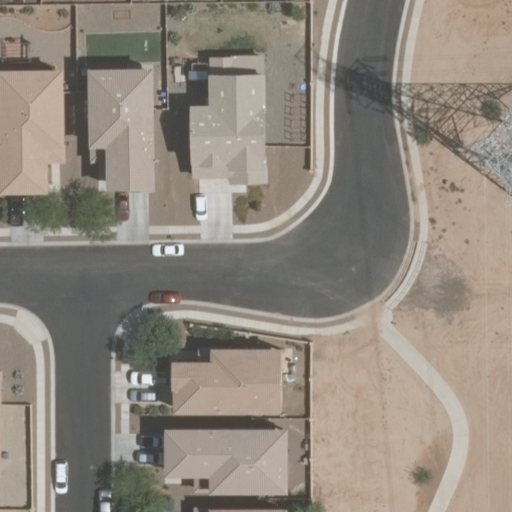TT: (365, 75, 512, 195)
